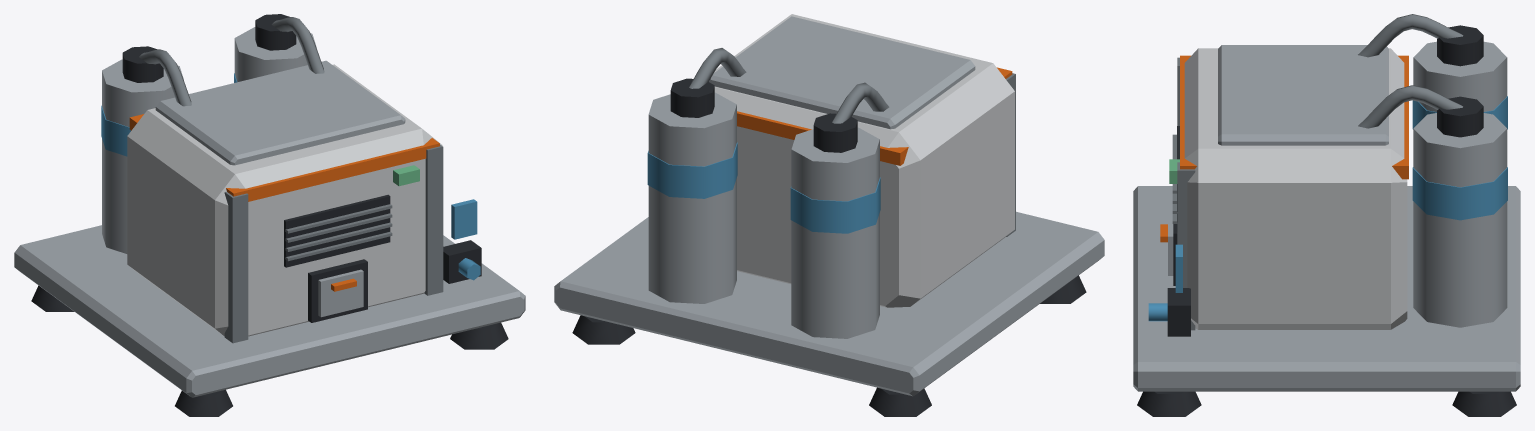
The model's file is moxie.glb.
The picture shows the model from 3 angles, left to right: view 1: azimuth 30°, elevation 25°; view 2: azimuth 150°, elevation 25°; view 3: azimuth 270°, elevation 25°; orthographic projection. The views are drawn at different scales.
Visible parts, largest first — view 1: static_body_mesh.003, service_panel_mesh.003; view 2: static_body_mesh.003; view 3: static_body_mesh.003, service_panel_mesh.003.
Part boxes in pixels (<box>): static_body_mesh.003: <box>14,14,525,416</box>; service_panel_mesh.003: <box>308,259,367,322</box>; static_body_mesh.003: <box>554,14,1104,416</box>; static_body_mesh.003: <box>1133,14,1520,416</box>; service_panel_mesh.003: <box>1160,213,1177,285</box>.
Size of the model in its own units: 2.39 by 1.72 by 2.15.
